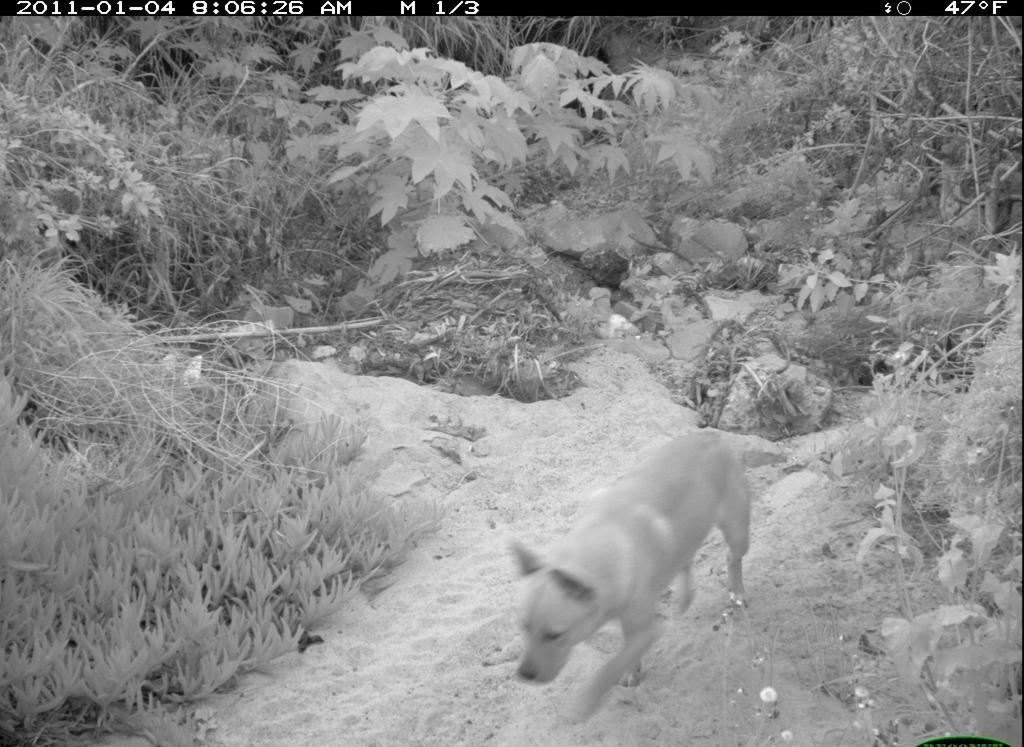dog: (474, 424, 809, 726)
